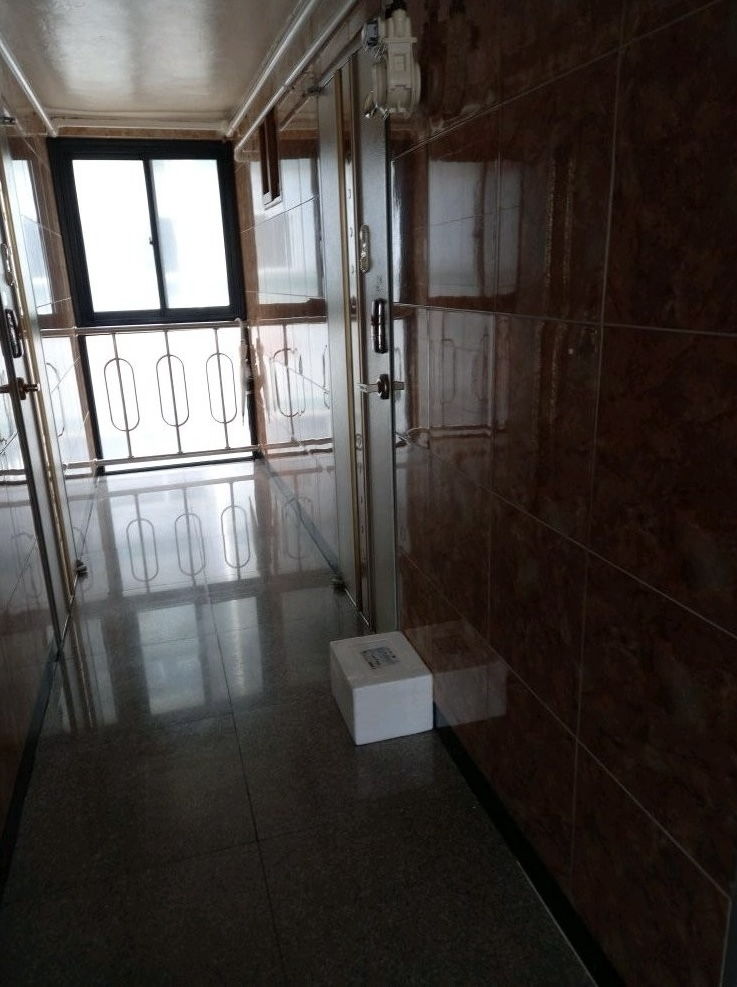undamaged: (324, 630, 436, 744)
